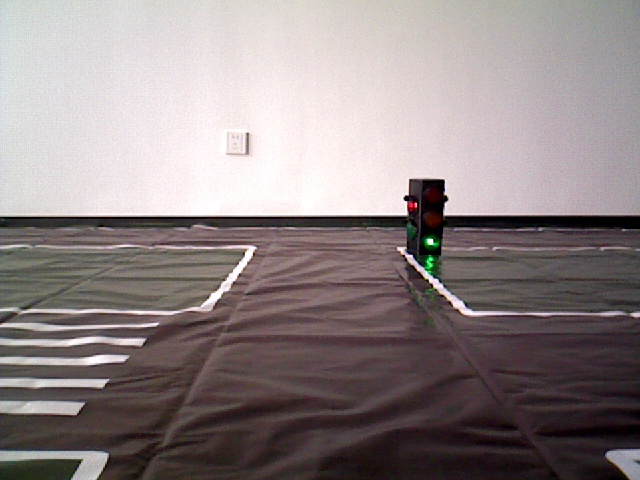green: (406, 181, 439, 247)
